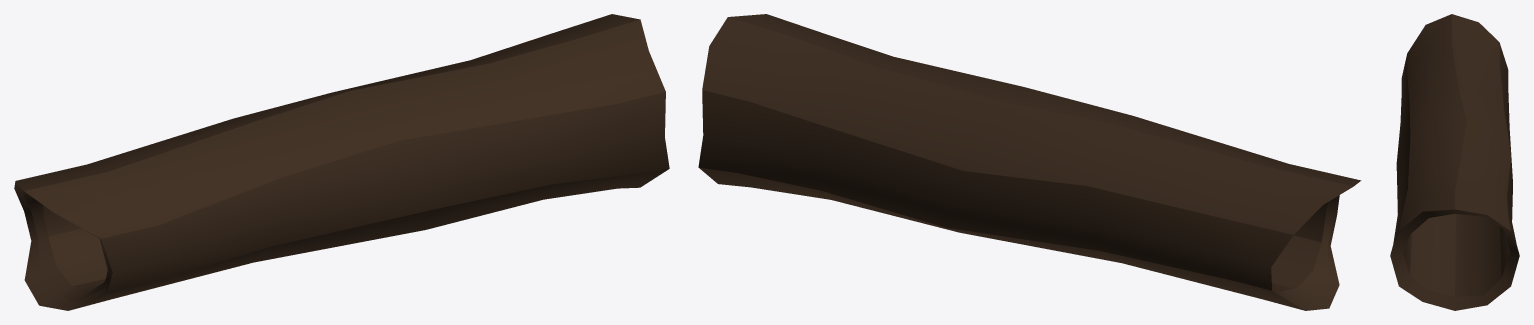
The model's file is JOP_Log1_obstacle_Mesh.fbx.
The picture shows the model from 3 angles, left to right: view 1: azimuth 30°, elevation 25°; view 2: azimuth 150°, elevation 25°; view 3: azimuth 270°, elevation 25°; orthographic projection. The views are drawn at different scales.
Parts seen in each view (by area): view 1: Gengon001; view 2: Gengon001; view 3: Gengon001.
Part boxes in pixels (x1,y1,x2,y2): Gengon001: [14, 14, 669, 310]; Gengon001: [698, 14, 1361, 310]; Gengon001: [1390, 14, 1519, 310].
Bounding box in the file's own units: 193 × 46.53 × 50.79.
